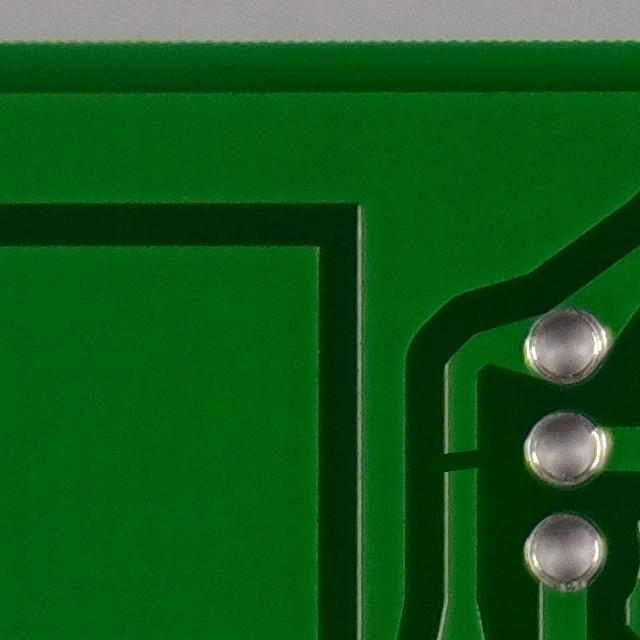open_circuit: (429, 434, 497, 483)
